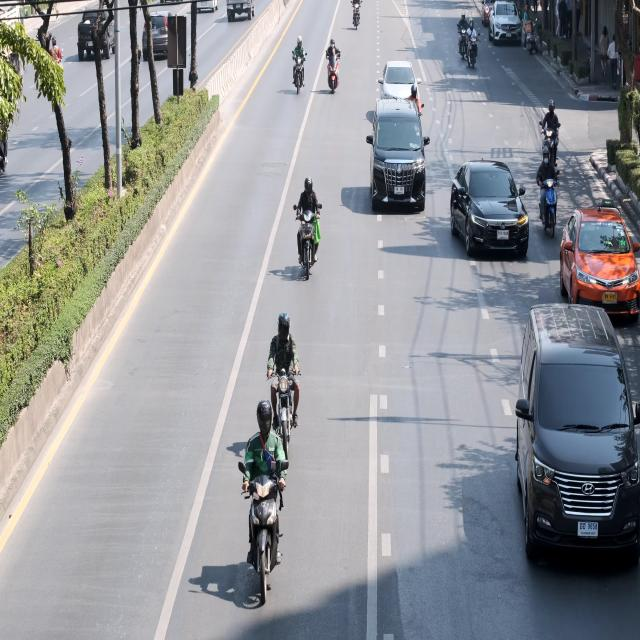cars: (506, 299, 640, 585), (562, 197, 638, 320), (451, 145, 533, 258), (368, 96, 430, 217), (76, 6, 121, 61), (380, 59, 421, 116), (489, 0, 522, 41), (143, 14, 170, 62), (228, 0, 256, 21), (191, 0, 218, 17)
motorcycle: (242, 400, 286, 602), (263, 311, 307, 447), (289, 175, 321, 292), (536, 143, 558, 234), (542, 96, 562, 171), (324, 33, 344, 93), (292, 36, 307, 95), (464, 18, 479, 68), (409, 75, 423, 127), (458, 8, 470, 59), (528, 14, 542, 54), (51, 37, 62, 80), (351, 0, 363, 27)
